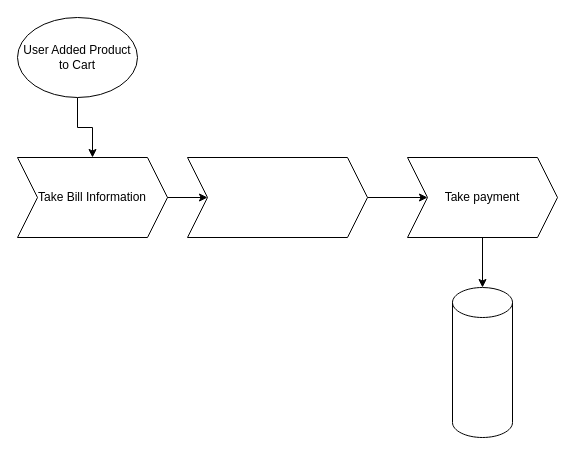
The diagram is 575 pixels wide and 455 high, and some of its shapes have lost their labels. The shapes that lost their labels are listed below. From the top down, each one's centre as x and y in pixels, then its label:
the point at 277,197: Take Shipping Information
the point at 482,362: Save Order
